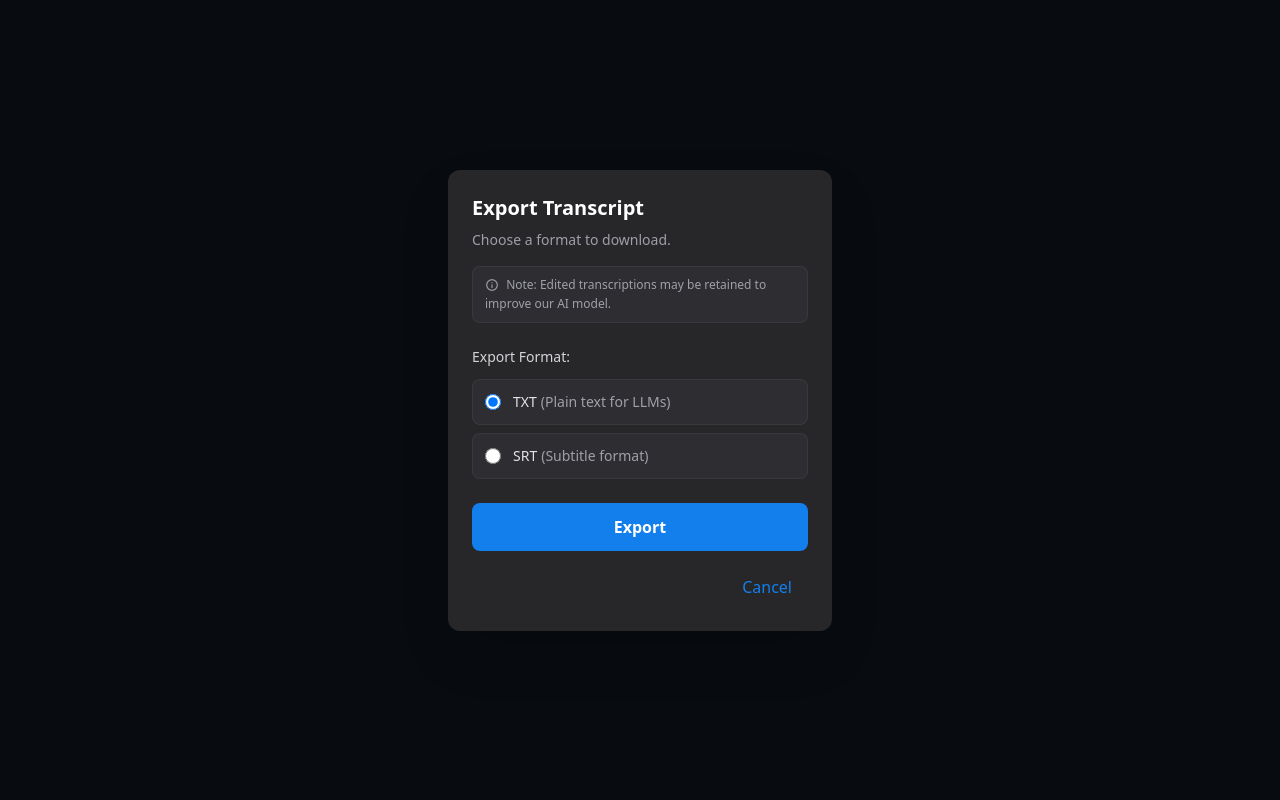
Test case: ExportModal › Error Handling (AC #6) › displays error message on API failure
Click the button "Export". click: (640, 526)
box: x1=472 y1=502 x2=808 y2=550
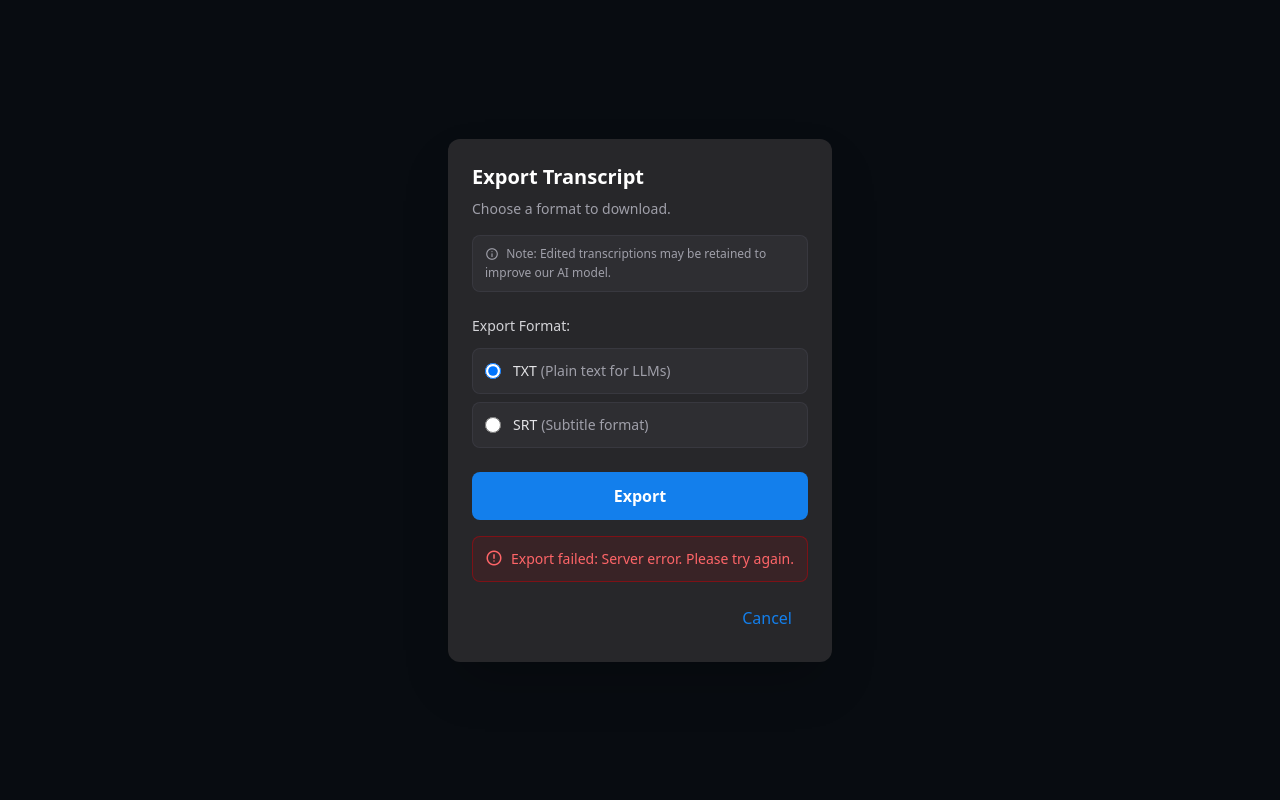
Expected: the text "Export failed: Server error. Please try again." is shown, x1=511 y1=548 x2=794 y2=568
